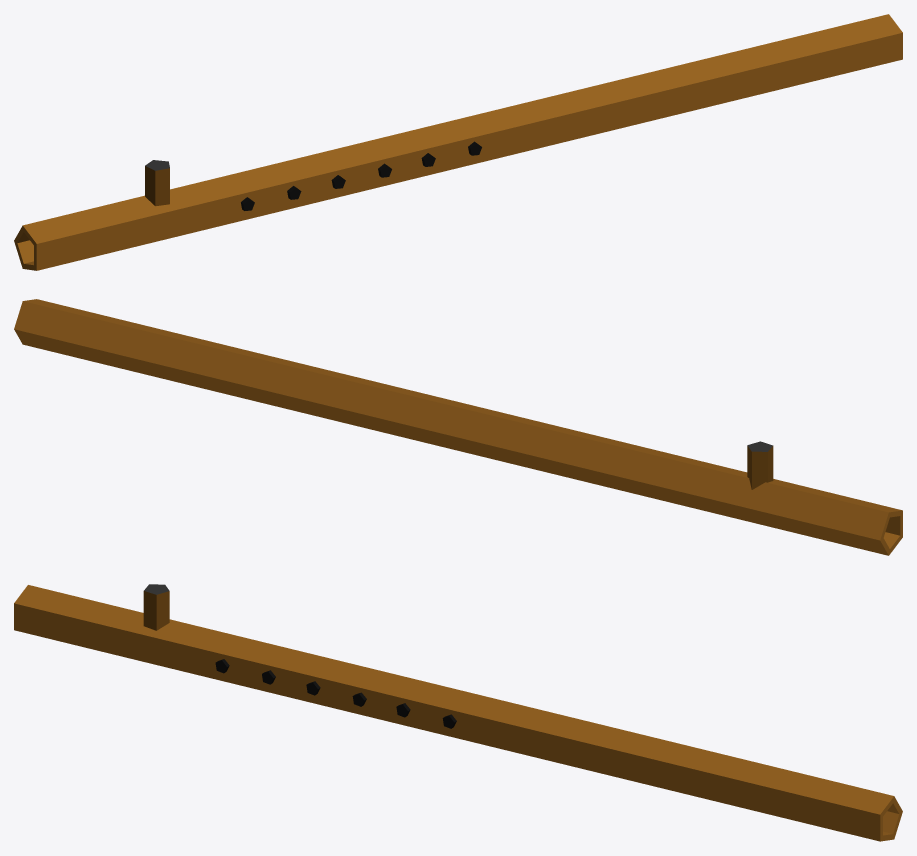
File: flute.glb
3 renders of one model, top to bottom at view 1: azimuth 30°, elevation 25°; view 2: azimuth 150°, elevation 25°; view 3: azimuth 330°, elevation 25°, orthographic.
Parts seen in each view (by area): view 1: Flute; view 2: Flute; view 3: Flute.
Part boxes in pixels (x1,y1,x2,y2): Flute: [14, 14, 902, 270]; Flute: [14, 299, 902, 555]; Flute: [14, 584, 902, 841].
Bounding box in the file's own units: 0.7025 × 0.0573 × 0.0357.
1 material, 1 textured.
